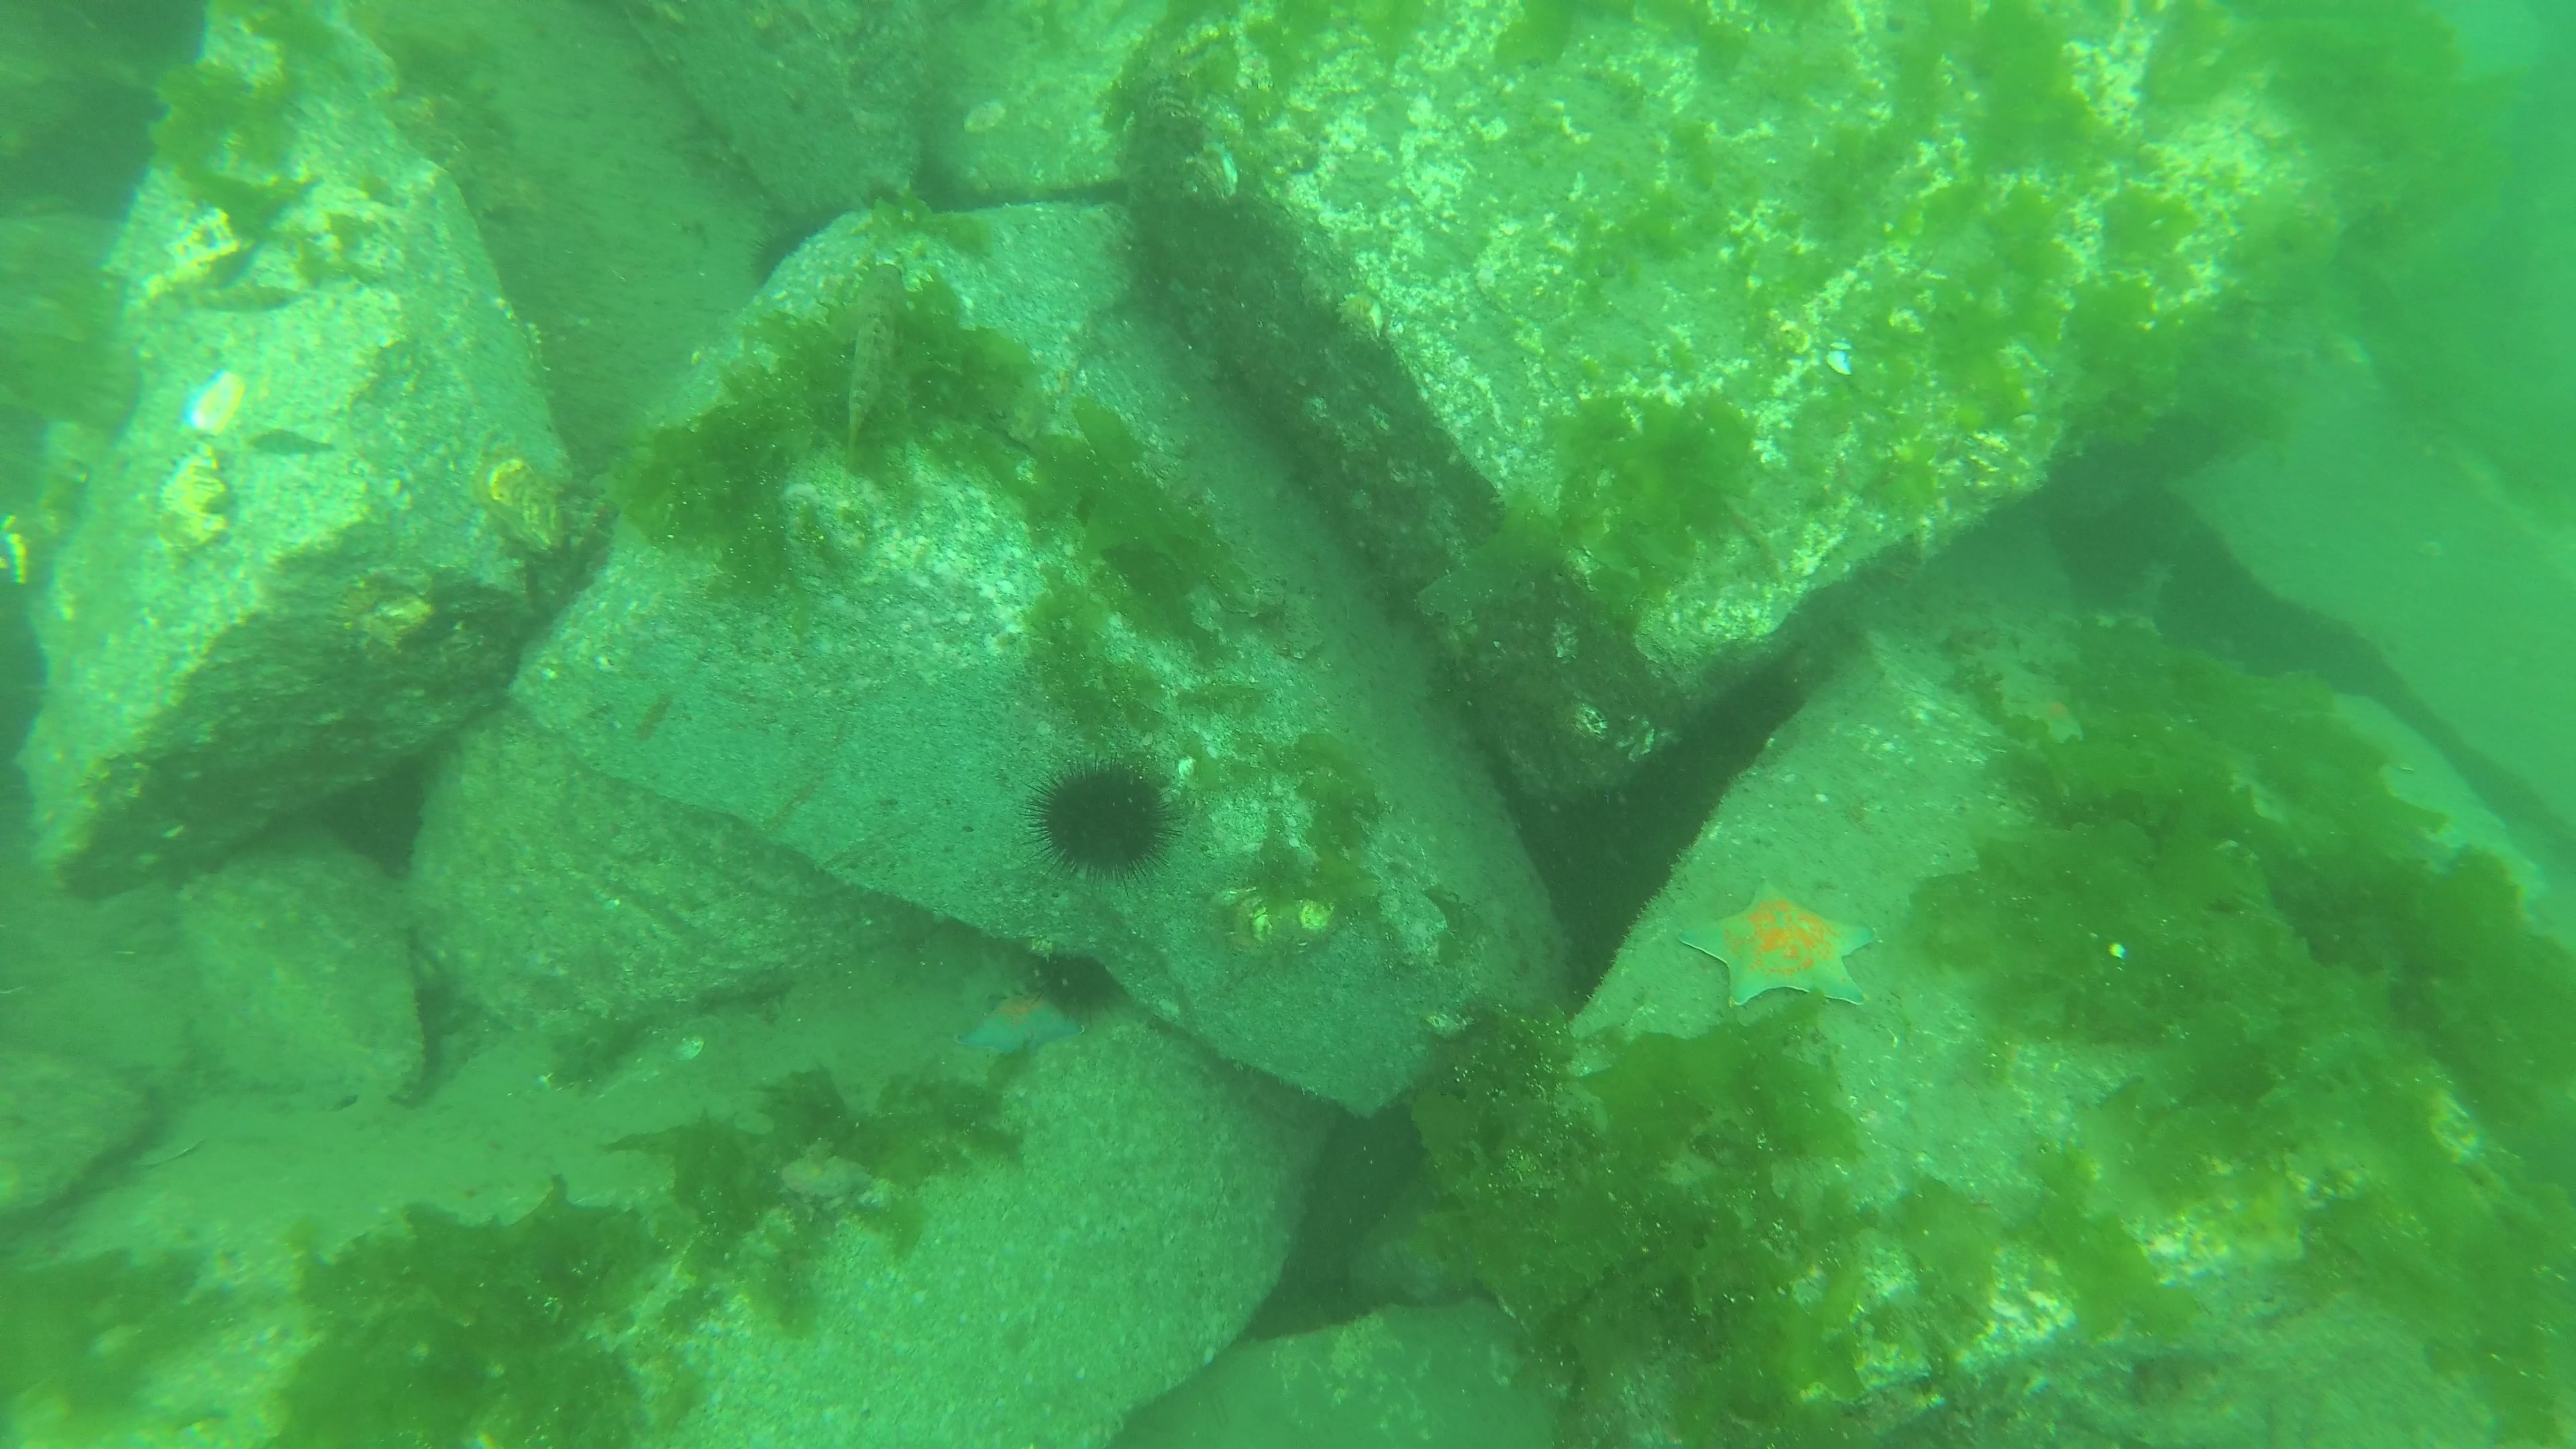echinus: (1016, 750, 1189, 899), (46, 78, 172, 223), (1024, 952, 1123, 1030), (747, 221, 821, 290)
holothurian: (948, 950, 1058, 1008), (782, 1134, 874, 1200)
starfish: (1674, 874, 1882, 1012), (954, 989, 1086, 1058)
